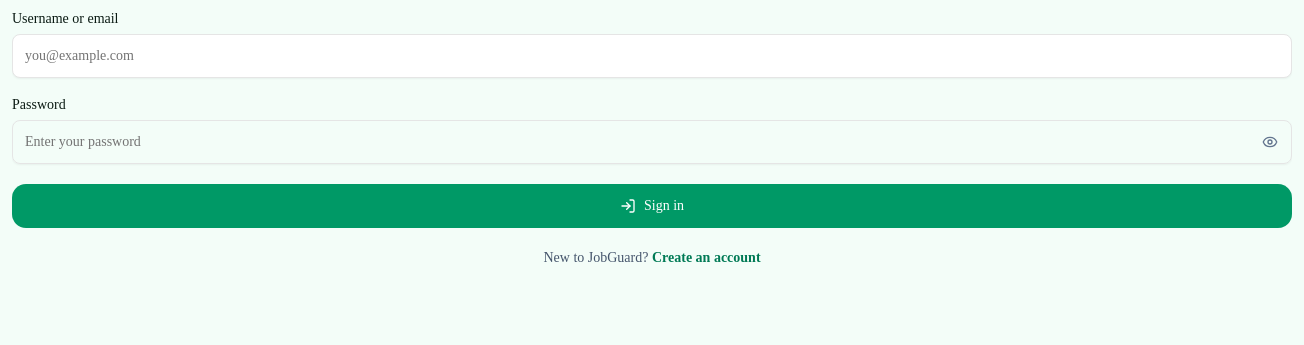
Test case: LoginForm › shows API errors without redirecting
The width and height of the screenshot is (1304, 345).
Type "demo_user" into the field labelled "Username or email" at [652, 56], box x1=12 y1=34 x2=1292 y2=78
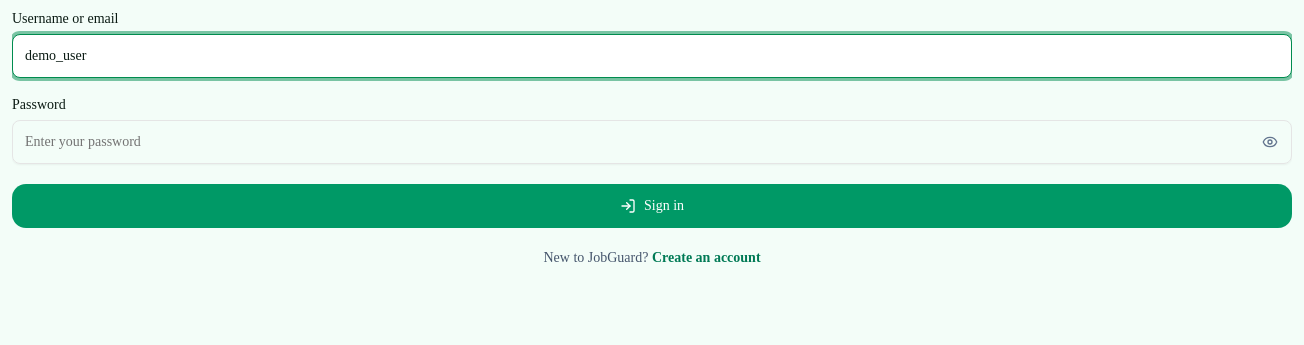
Type "wrong123" into the password field labelled "Password" at [652, 142], box x1=12 y1=120 x2=1292 y2=164
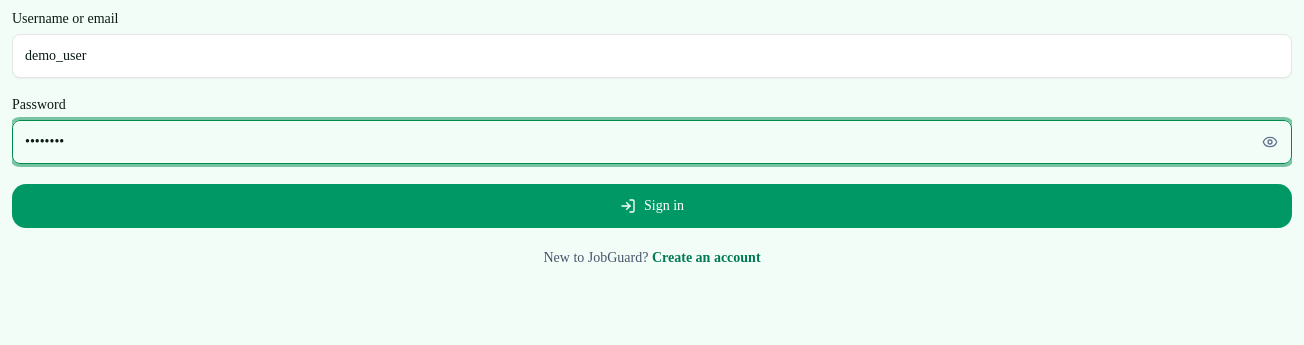
Click the button "Sign in" at [652, 206], box x1=12 y1=184 x2=1292 y2=228
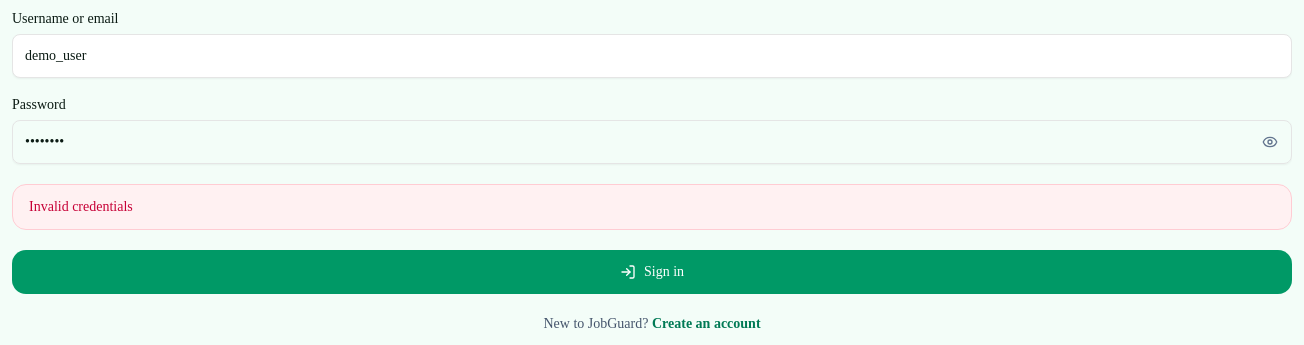
Check: the message reads "Invalid credentials", box x1=29 y1=199 x2=133 y2=214
